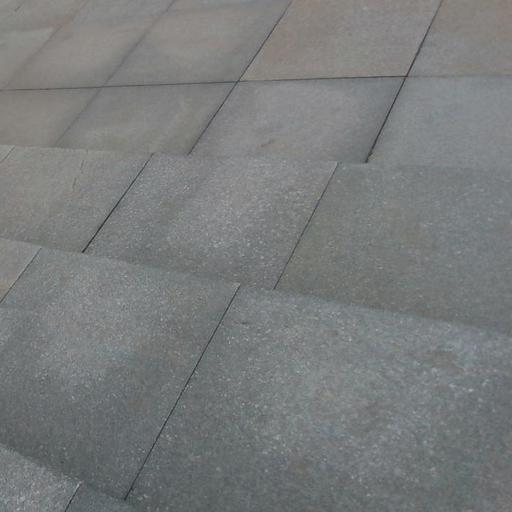stairs: (0, 147, 511, 511), (0, 445, 132, 511)
